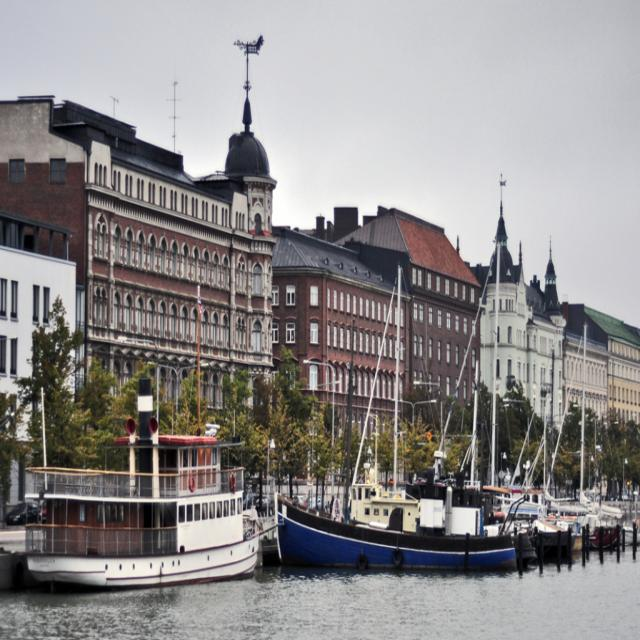Boat: (272, 239, 640, 568), (24, 378, 300, 593), (0, 385, 48, 552)
